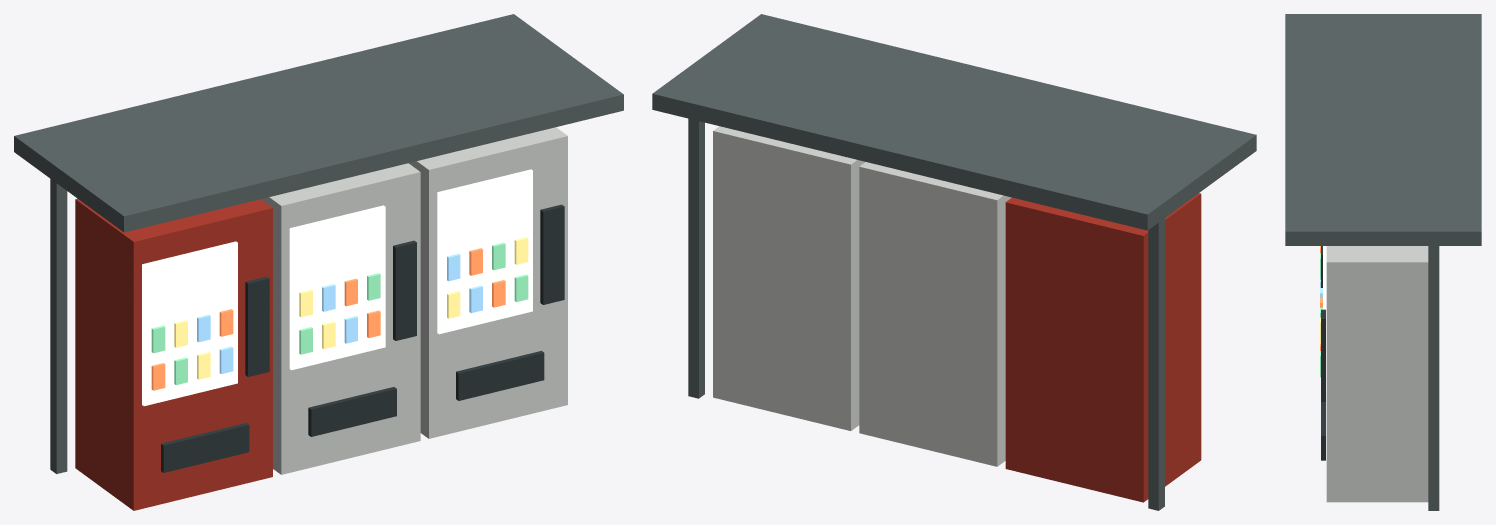
The model's file is vending-row-lod.glb.
3 views of the same model, side by side, from view 1: azimuth 30°, elevation 25°; view 2: azimuth 150°, elevation 25°; view 3: azimuth 270°, elevation 25° (orthographic). The views are drawn at different scales.
Visible parts, largest first — view 1: vending-row; view 2: vending-row; view 3: vending-row.
Boxes of the visible parts, x1,y1,x2,y2 form: vending-row: (14,14,623,510); vending-row: (652,14,1256,510); vending-row: (1285,14,1481,510).
Size of the model in its own units: 4.2 by 2.56 by 1.6.
